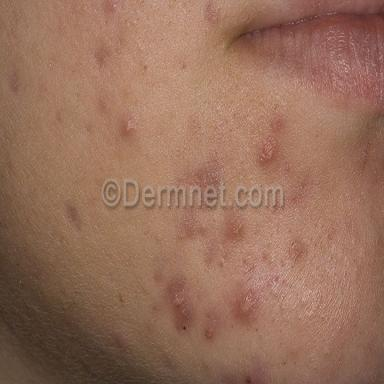acne: (167, 277, 193, 331), (235, 289, 259, 319), (259, 136, 277, 164), (225, 218, 245, 243), (289, 240, 305, 263), (121, 115, 137, 137), (205, 1, 219, 24), (271, 115, 285, 133), (104, 0, 116, 15), (205, 326, 213, 339)
